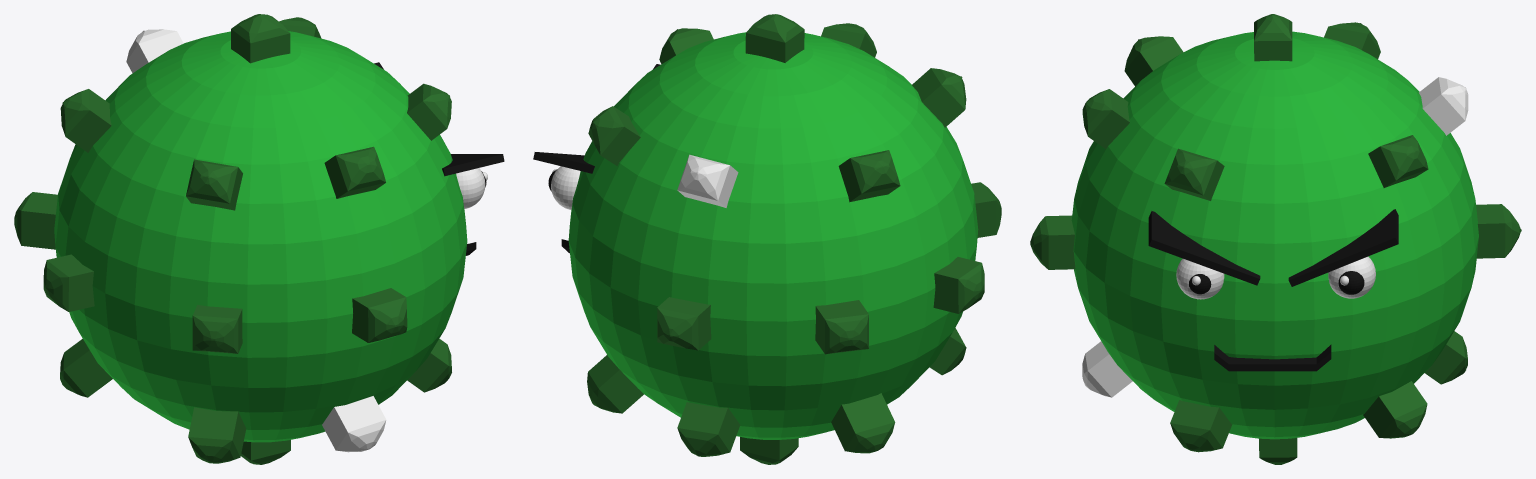
File: Enemy 1.fbx
3 views of the same model, side by side, from view 1: azimuth 30°, elevation 25°; view 2: azimuth 150°, elevation 25°; view 3: azimuth 270°, elevation 25° (orthographic).
Visible parts, largest first — view 1: Body, Spike 3, Spike 9, Spike 6, Spike 1, Spike 8, Spike 4, Spike 10, Spike 12, Spike 2, Spike 7, Spike 11 (+2 smaller); view 2: Body, Spike 7, Spike 9, Spike 2, Spike 1, Spike 8, Spike 11, Spike 4, Spike 10, Spike 6, Spike 3, Spike 12 (+2 smaller); view 3: Body, Spike 7, Spike 4, Spike 3, Spike 6, Spike 2, Spike 1, EyeBrown R, EyeBrown L, Spike 9, Spike 8, Mouth (+2 smaller).
Boxes of the visible parts, x1,y1,x2,y2 form: Body: (54,31,467,442); Spike 3: (126,29,386,452); Spike 9: (60,83,451,397); Spike 6: (60,89,451,392); Spike 1: (231,14,290,464); Spike 8: (188,17,321,463); Spike 4: (352,288,407,342); Spike 10: (43,254,94,311); Spike 12: (192,304,242,353); Spike 2: (324,146,385,198); Spike 7: (186,159,242,210); Spike 11: (14,192,57,249); Body: (568,32,978,439); Spike 7: (587,68,966,413); Spike 9: (659,28,895,453); Spike 2: (677,23,876,456); Spike 1: (740,14,804,464); Spike 8: (588,106,966,375); Spike 11: (815,300,868,354); Spike 4: (657,297,711,350); Spike 10: (933,257,984,313); Spike 6: (838,150,900,202); Spike 3: (677,154,738,207); Spike 12: (971,182,1001,237); Body: (1071,31,1478,439); Spike 7: (1124,36,1427,438); Spike 4: (1030,204,1521,269); Spike 3: (1082,77,1468,397); Spike 6: (1170,22,1380,452); Spike 2: (1082,89,1467,384); Spike 1: (1254,14,1297,464); EyeBrown R: (1148,211,1260,285); EyeBrown L: (1288,209,1398,286); Spike 9: (1164,148,1224,200); Spike 8: (1368,135,1428,187); Mouth: (1214,344,1331,371).
Size of the model in its own units: 222 by 241 by 240.
